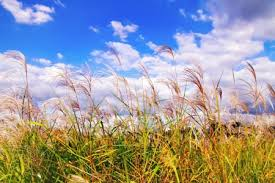field: (8, 100, 269, 183)
sky: (3, 1, 275, 83)
